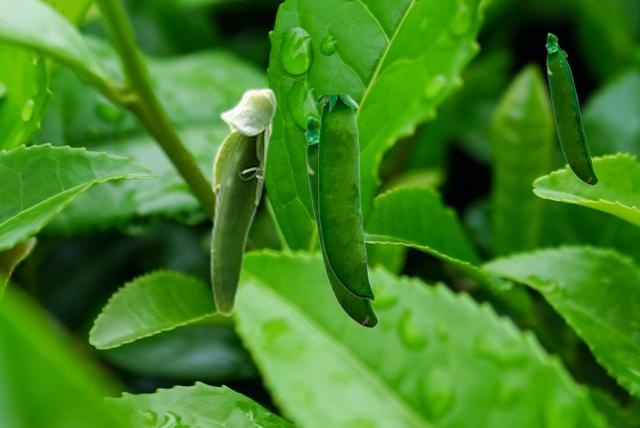pea: (209, 87, 277, 316), (304, 115, 377, 327), (318, 95, 374, 302), (545, 32, 597, 184)
